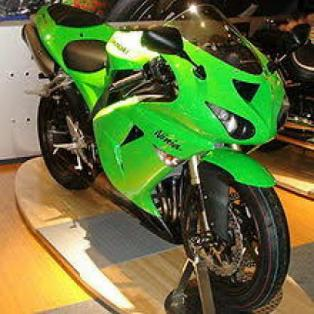Motocicleta: (24, 0, 298, 312)
